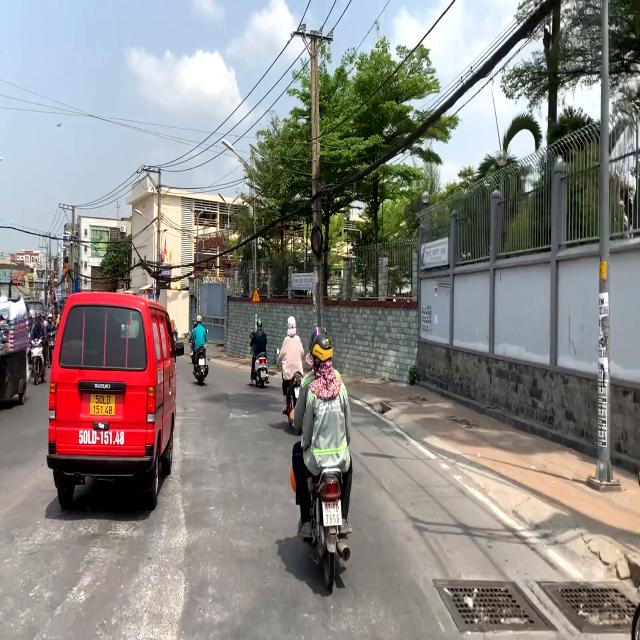W.203c: (251, 286, 261, 304)
